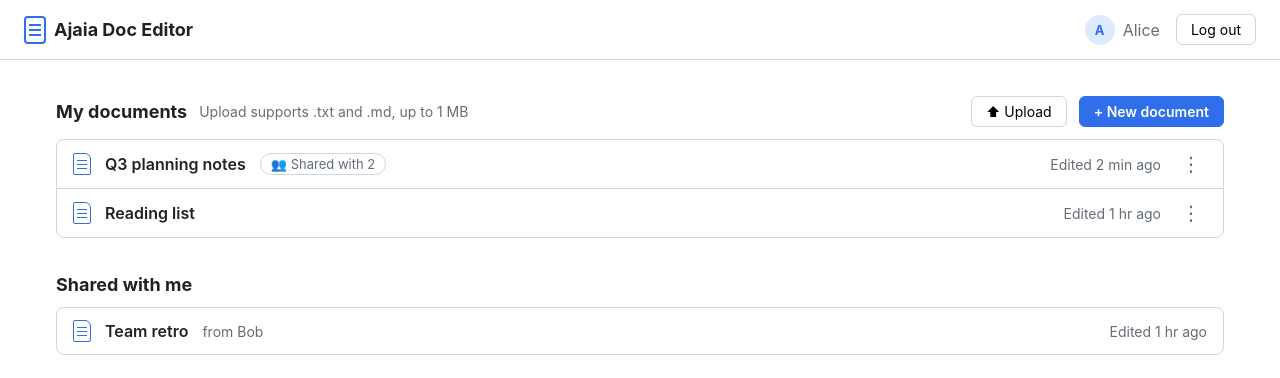
Test: document list › renames from the row menu
This screenshot has width=1280, height=378.
Click the button "⋮" in the row of "Reading list": (1191, 213) top-left (1175, 201), bottom-right (1207, 225)
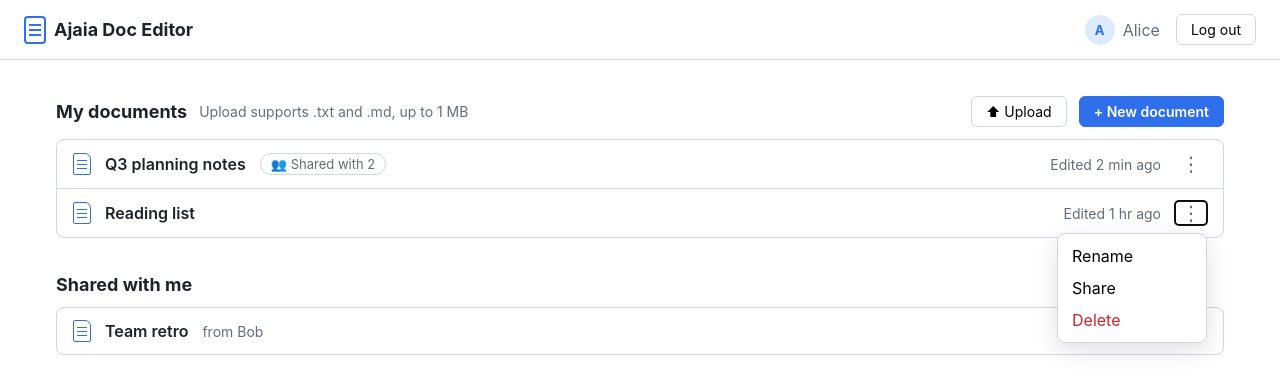
Click the menu item "Rename": (1132, 256) top-left (1058, 240), bottom-right (1206, 272)
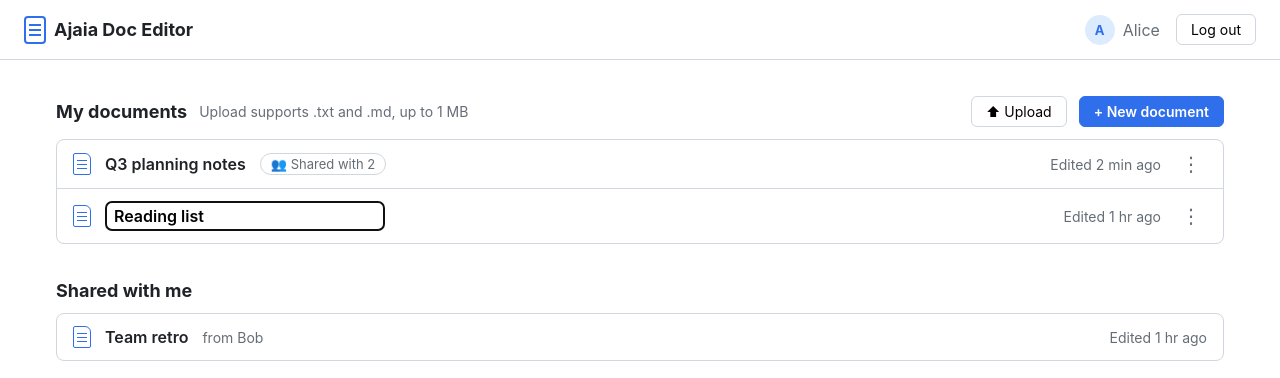
Replace the text in the field named "New title" with "Books": (245, 216) top-left (105, 201), bottom-right (385, 231)
Then press Enter
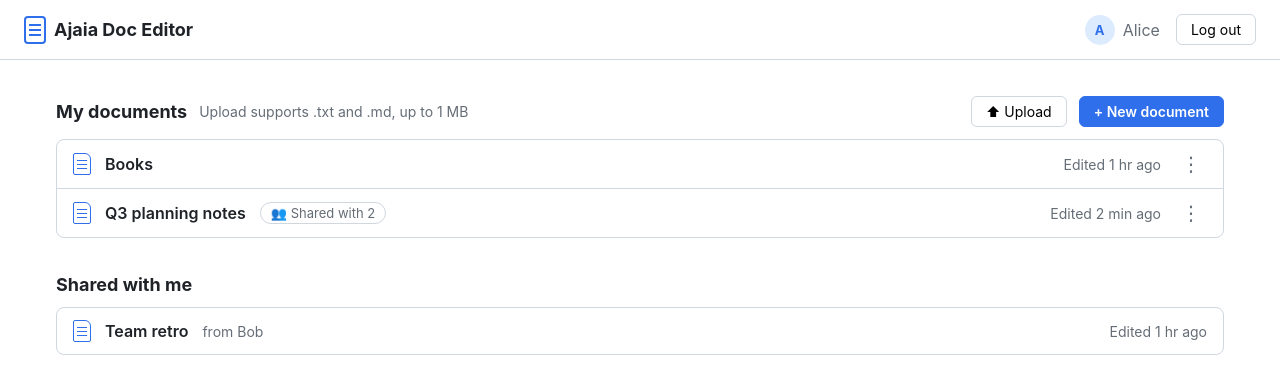
Expected: the link "Books" is shown, top-left (105, 154), bottom-right (153, 174)
